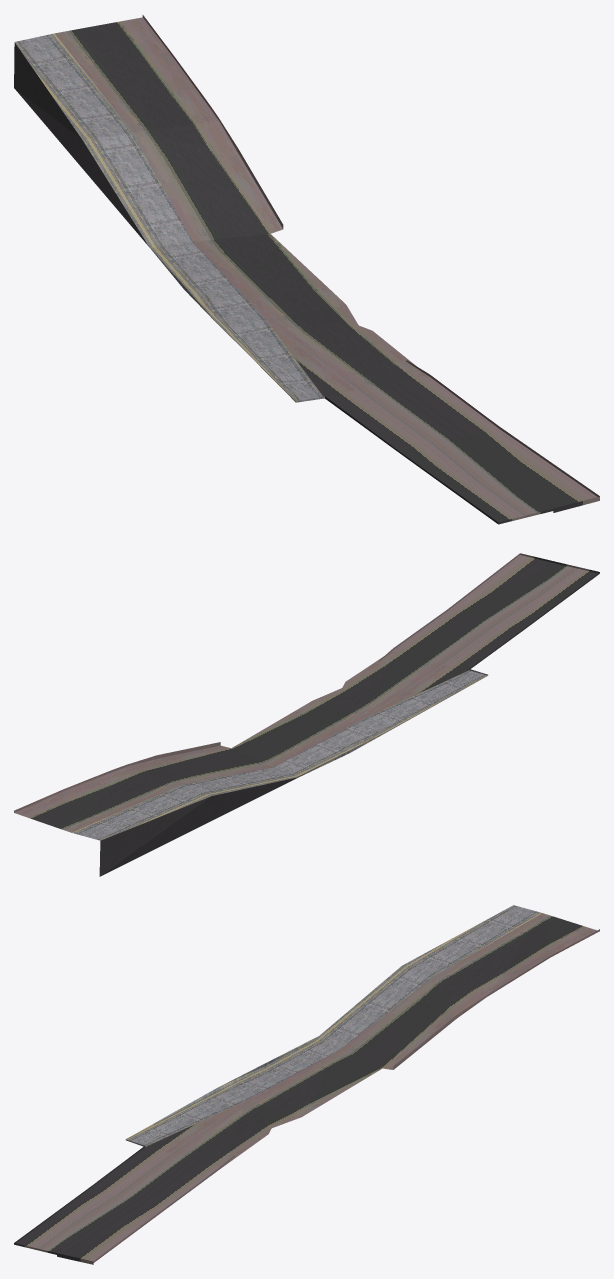
File: lodlae2_roads79.obj
3 views of the same model, one above another, from view 1: azimuth 30°, elevation 25°; view 2: azimuth 150°, elevation 25°; view 3: azimuth 330°, elevation 25° (orthographic). The views are drawn at different scales.
Visible parts, largest first — view 1: LODLae2_roads79; view 2: LODLae2_roads79; view 3: LODLae2_roads79.
Part boxes in pixels (bbox=[...]): LODLae2_roads79: bbox=[14, 15, 599, 524]; LODLae2_roads79: bbox=[14, 553, 599, 876]; LODLae2_roads79: bbox=[14, 905, 599, 1264].
Size of the model in its own units: 58 by 12.83 by 246.
3 materials, 3 textured.
